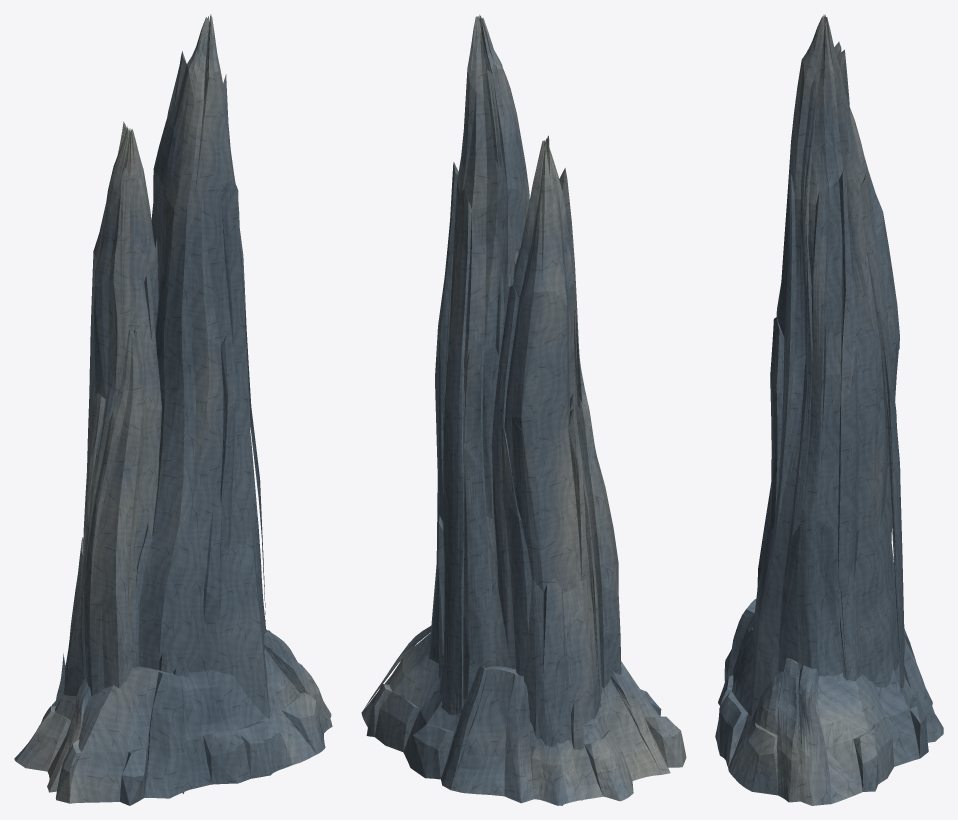
3 views of the same model, side by side, from view 1: azimuth 30°, elevation 25°; view 2: azimuth 150°, elevation 25°; view 3: azimuth 270°, elevation 25° (orthographic).
Parts seen in each view (by area): view 1: F12_stone; view 2: F12_stone; view 3: F12_stone.
Part boxes in pixels (x1,y1,x2,y2): F12_stone: [14, 14, 332, 805]; F12_stone: [361, 14, 686, 805]; F12_stone: [715, 14, 943, 805].
Bounding box in the file's own units: 9.9 × 23.94 × 6.57.
1 material, 1 textured.
